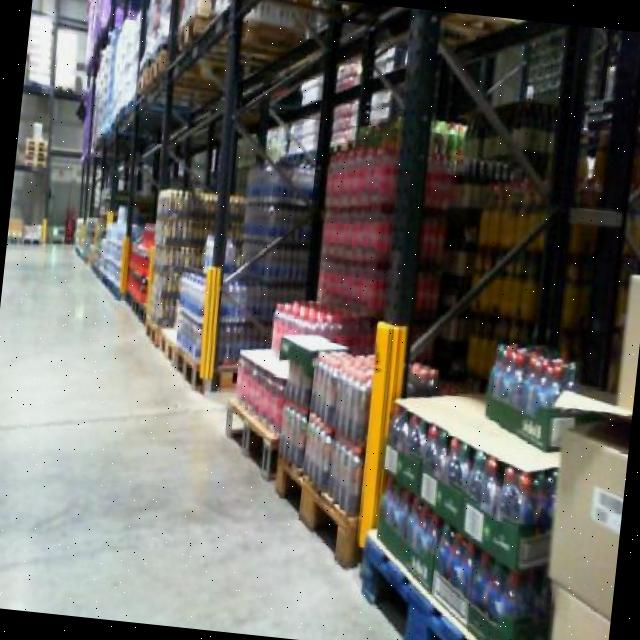pallet: (352, 511, 490, 640), (263, 438, 371, 573), (214, 388, 286, 484), (166, 334, 212, 394)
